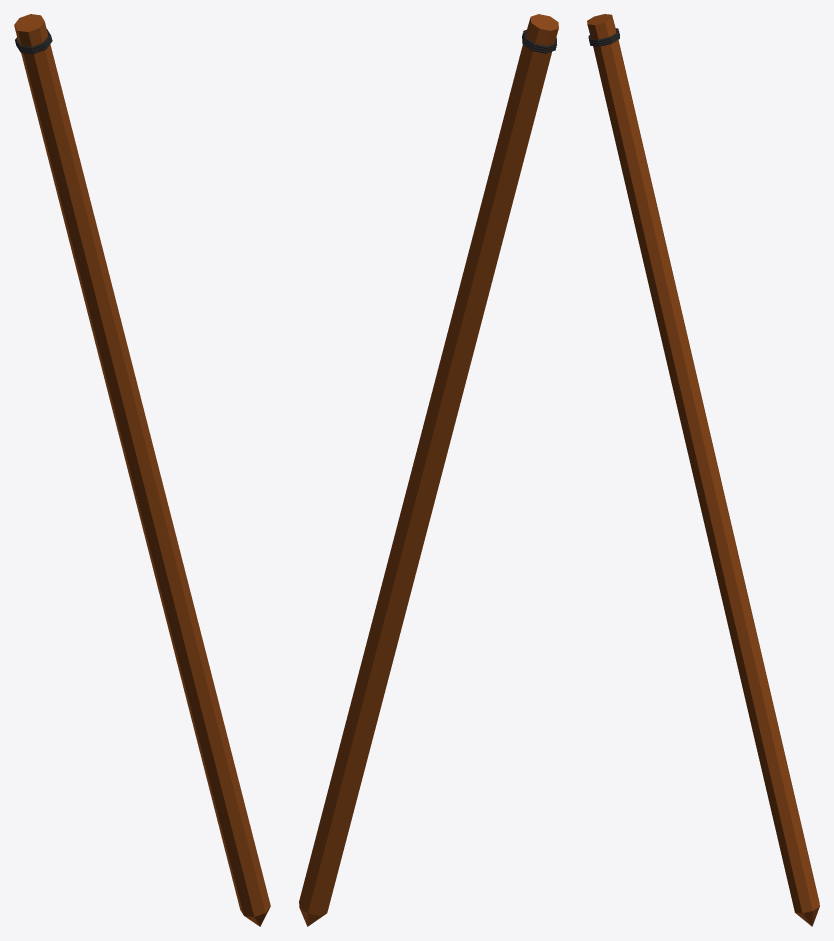
Rendered from Prop_Building_Wooden_Spike_Stake_01.FBX.
3 renders of one model, left to right at view 1: azimuth 30°, elevation 25°; view 2: azimuth 150°, elevation 25°; view 3: azimuth 330°, elevation 25°, orthographic. The views are drawn at different scales.
Visible parts, largest first — view 1: Prop_Building_Wooden_Spike_Stake_01; view 2: Prop_Building_Wooden_Spike_Stake_01; view 3: Prop_Building_Wooden_Spike_Stake_01.
Part boxes in pixels (bbox=[...]): Prop_Building_Wooden_Spike_Stake_01: bbox=[14, 14, 270, 926]; Prop_Building_Wooden_Spike_Stake_01: bbox=[299, 14, 558, 926]; Prop_Building_Wooden_Spike_Stake_01: bbox=[587, 14, 819, 926].
Bounding box in the file's own units: 520 × 1883 × 70.48.
